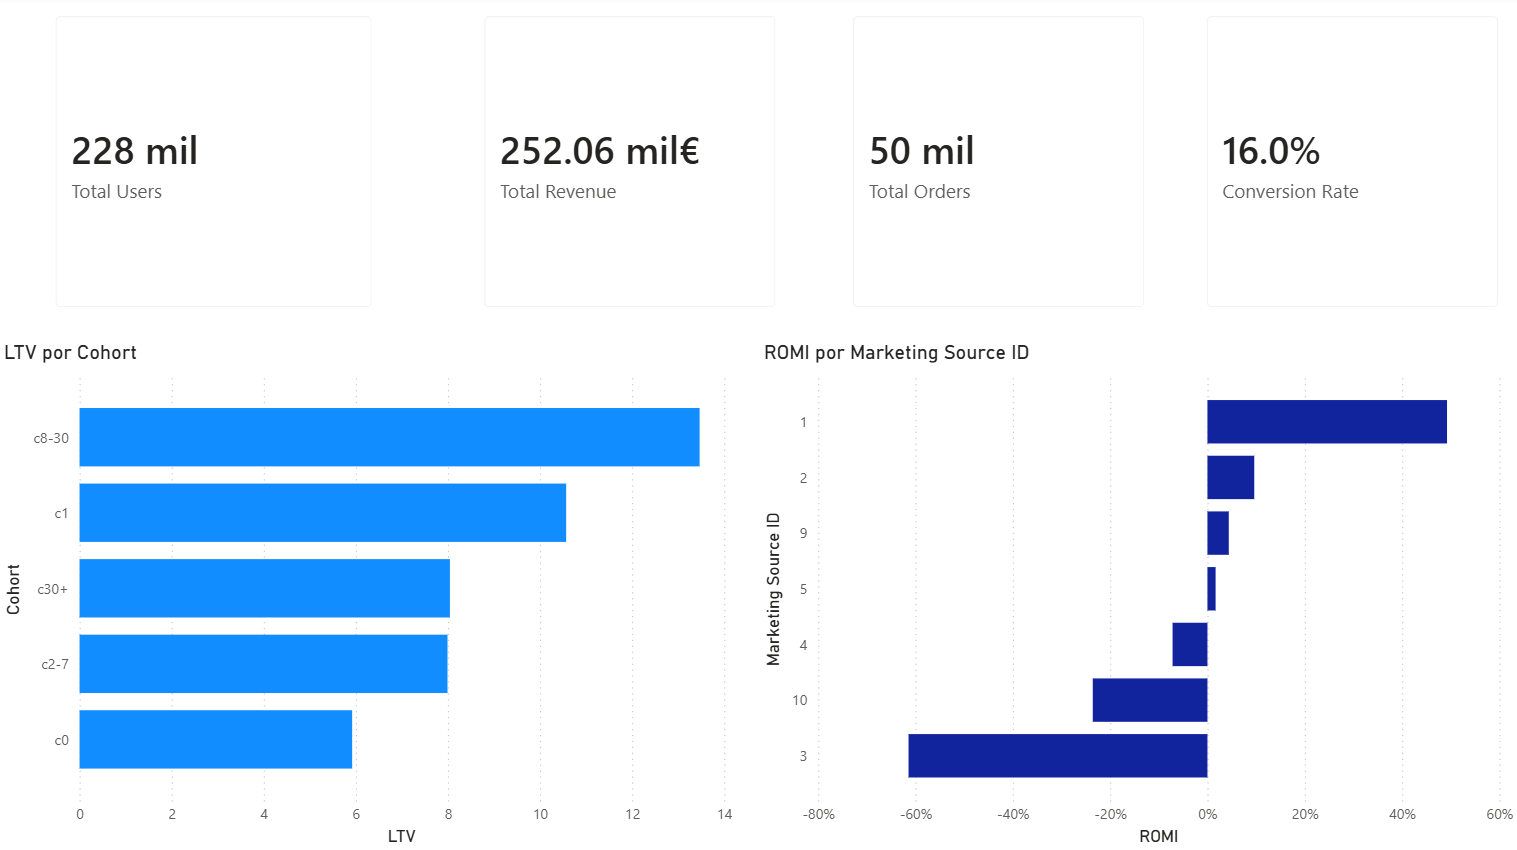

Layout of this report page (visuals, bound fields, positions):
{"tool":"powerbi","page":{"name":"Página 1","canvas":[1280,720],"ordinal":0},"visuals":[{"type":"cardVisual","fields":{"Data":["user_profile_powerbi.Total Users"]},"box":[31.6,0,300.5,279.9],"z":0},{"type":"cardVisual","fields":{"Data":["user_profile_powerbi.CONVERSION_RATE"]},"box":[1000.3,0,279.9,279.9],"z":1000},{"type":"cardVisual","fields":{"Data":["user_profile_powerbi.Total Orders"]},"box":[702.6,0,279.9,279.9],"z":2000},{"type":"cardVisual","fields":{"Data":["user_profile_powerbi.Total revenue"]},"box":[392.5,0,279.9,279.9],"z":3000},{"type":"clusteredBarChart","fields":{"Y":["cohort_metrics_powerbi.LTV"],"Category":["cohort_metrics_powerbi.cohort"]},"box":[0,289.5,623,430.9],"z":4000},{"type":"clusteredBarChart","fields":{"Category":["marketing_analysis_powerbi.marketing_source_id"],"Y":["marketing_analysis_powerbi.ROMI_Dynamic"]},"box":[639.5,289.5,640.8,430.9],"z":5000}]}

Visuals, with their boxes in screenshot pixels (x1, y1, x2, y2), scaled from the page's 1280x720 canvas onto the 1517x850 screenshot:
cardVisual - user_profile_powerbi.Total Users: l=37, t=0, r=394, b=330
cardVisual - user_profile_powerbi.CONVERSION_RATE: l=1186, t=0, r=1516, b=330
cardVisual - user_profile_powerbi.Total Orders: l=833, t=0, r=1164, b=330
cardVisual - user_profile_powerbi.Total revenue: l=465, t=0, r=797, b=330
clusteredBarChart - cohort_metrics_powerbi.LTV x cohort_metrics_powerbi.cohort: l=0, t=342, r=738, b=849
clusteredBarChart - marketing_analysis_powerbi.marketing_source_id x marketing_analysis_powerbi.ROMI_Dynamic: l=758, t=342, r=1516, b=849
